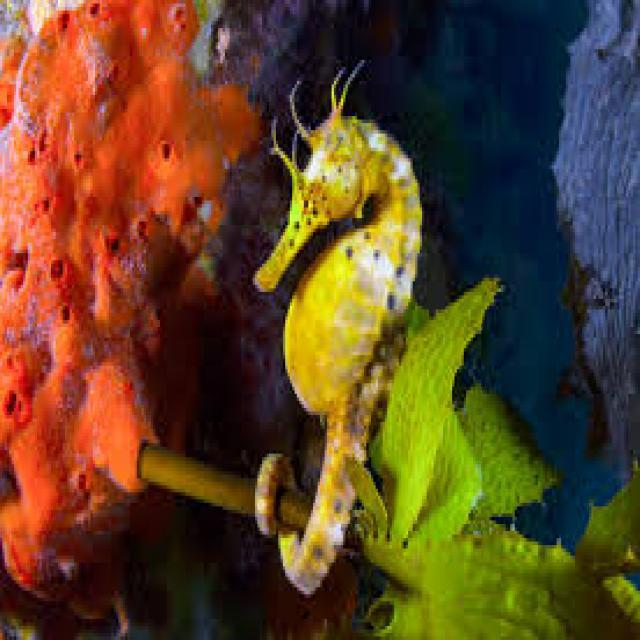SeaHorse: (253, 63, 422, 598)
